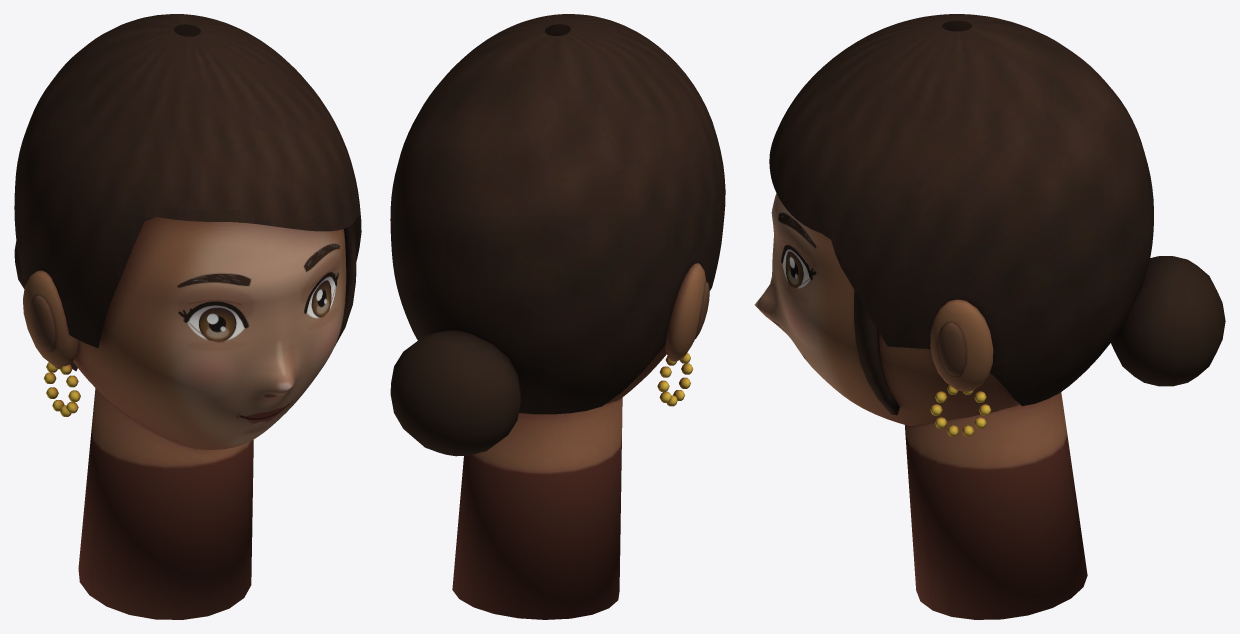
Rendered from cabeza-sheva-f.glb.
The picture shows the model from 3 angles, left to right: view 1: azimuth 30°, elevation 25°; view 2: azimuth 150°, elevation 25°; view 3: azimuth 270°, elevation 25°; orthographic projection. The views are drawn at different scales.
Parts seen in each view (by area): view 1: h_Head; view 2: h_Head; view 3: h_Head.
Part boxes in pixels (bbox=[...]): h_Head: bbox=[14, 14, 361, 619]; h_Head: bbox=[390, 14, 725, 619]; h_Head: bbox=[754, 14, 1225, 619].
Size of the model in its own units: 0.2023 by 0.358 by 0.2709.
Materials: 1 (1 with a texture image).
